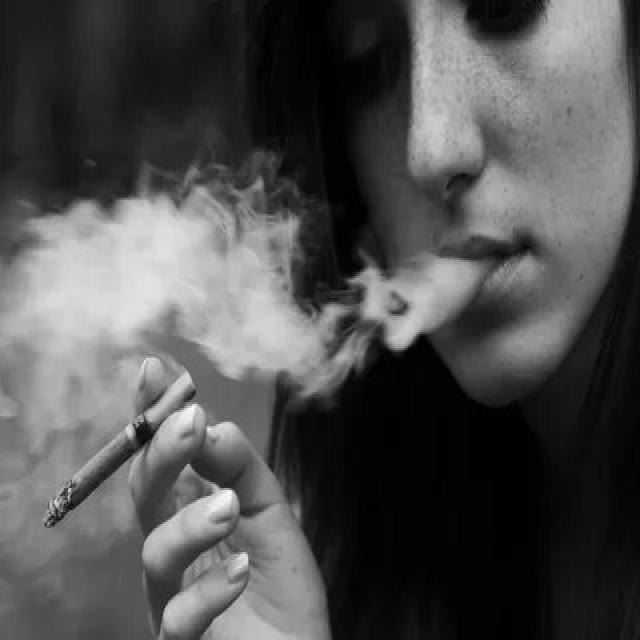smoke: (43, 364, 200, 534)
